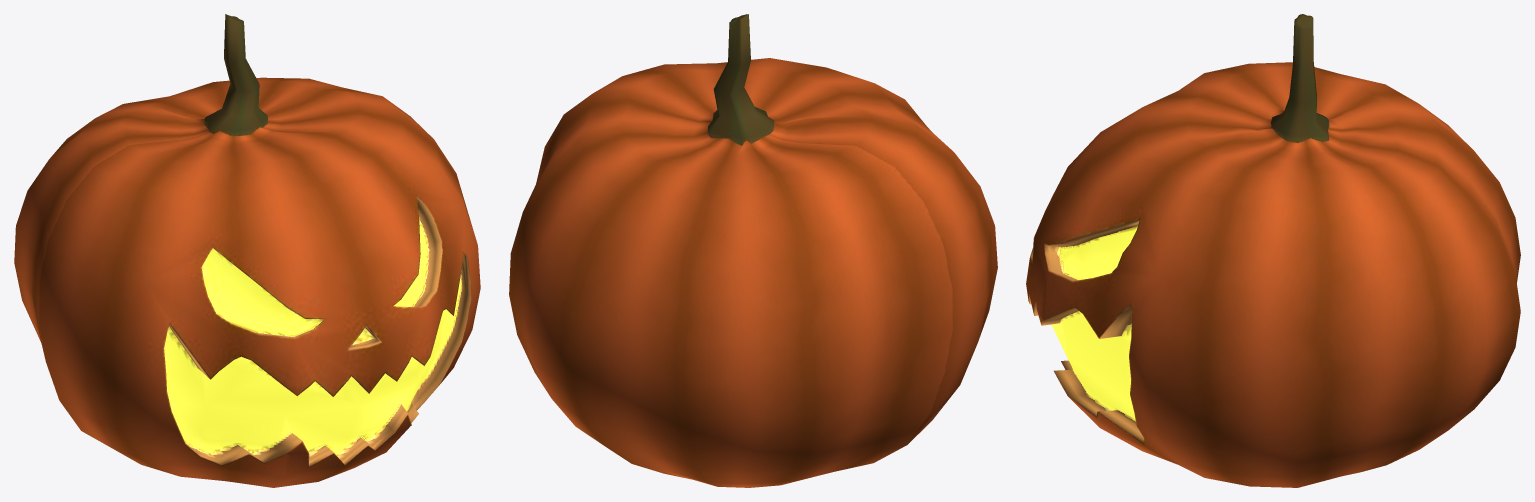
Rendered from ball12.fbx.
3 views of the same model, side by side, from view 1: azimuth 30°, elevation 25°; view 2: azimuth 150°, elevation 25°; view 3: azimuth 270°, elevation 25° (orthographic). The views are drawn at different scales.
Visible parts, largest first — view 1: Sphere.002; view 2: Sphere.002; view 3: Sphere.002.
Part boxes in pixels (<box>): Sphere.002: <box>14,14,480,487</box>; Sphere.002: <box>509,14,997,487</box>; Sphere.002: <box>1026,14,1520,487</box>.
Bounding box in the file's own units: 130 × 133 × 137.
1 material, 1 textured.
